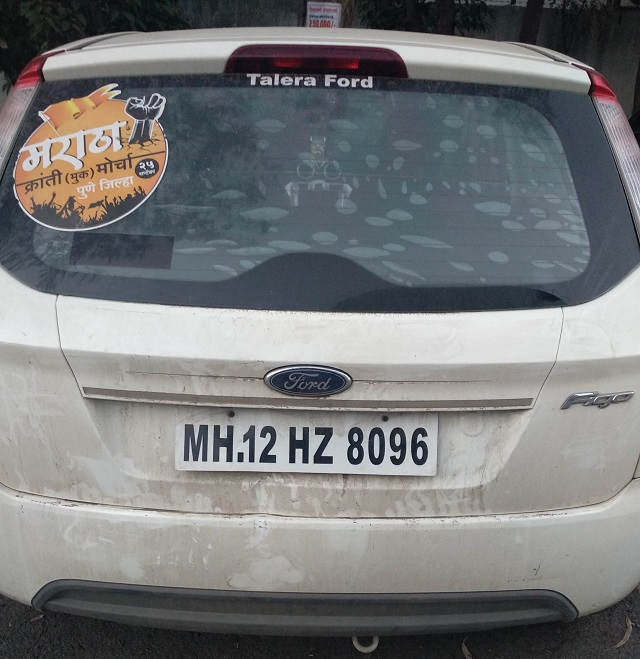licenseplate: (171, 407, 447, 477)
